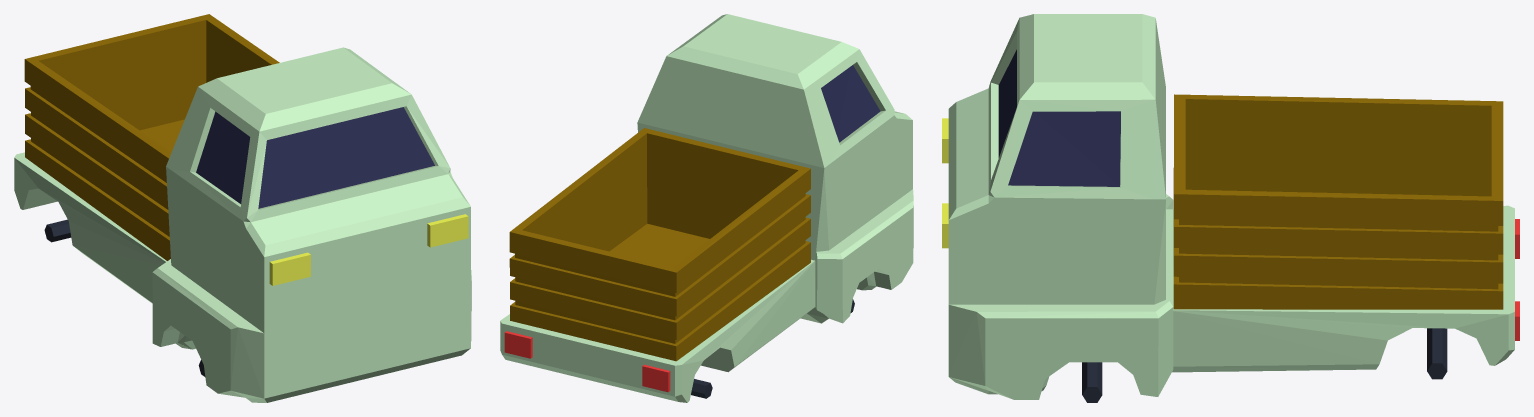
Rendered from SM_Car_02_Body.fbx.
The picture shows the model from 3 angles, left to right: view 1: azimuth 30°, elevation 25°; view 2: azimuth 150°, elevation 25°; view 3: azimuth 270°, elevation 25°; orthographic projection. The views are drawn at different scales.
Parts seen in each view (by area): view 1: SM_Car_02_Body; view 2: SM_Car_02_Body; view 3: SM_Car_02_Body.
Part boxes in pixels (x1=…): SM_Car_02_Body: x1=14, y1=14, x2=471, y2=402; SM_Car_02_Body: x1=500, y1=14, x2=913, y2=402; SM_Car_02_Body: x1=942, y1=14, x2=1519, y2=402.
Size of the model in its own units: 107 by 116 by 202.
